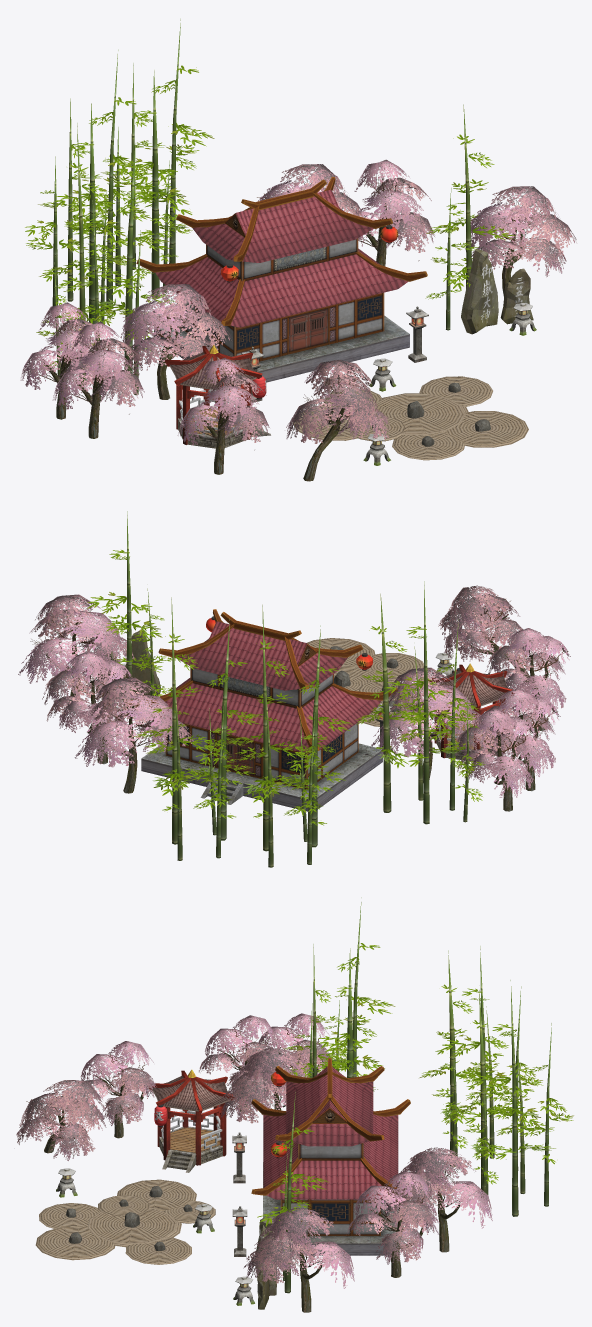
Rendered from garden_night.FBX.
3 views of the same model, one above another, from view 1: azimuth 30°, elevation 25°; view 2: azimuth 150°, elevation 25°; view 3: azimuth 270°, elevation 25° (orthographic). The views are drawn at different scales.
Parts seen in each view (by area): view 1: c_04, bambooss001, Object002, bambooss002, Object004, Object001, bambooss, Birch_1, Birch_002, c_03, Birch_003, Birch_004 (+15 smaller); view 2: c_04, bambooss, bambooss002, bambooss001, Object003, Object004, Birch_004, Object001, Birch_003, Object002, Birch_1, Birch_002 (+10 smaller); view 3: c_04, c_03, bambooss002, Object004, Birch_003, Object001, Object003, bambooss001, Birch_1, bambooss, Object002, Birch_002 (+13 smaller).
Part boxes in pixels (x1,y1,x2,y2): c_04: (136,176,427,389); bambooss001: (25,49,151,324); Object002: (121,284,231,399); bambooss002: (89,18,214,297); Object004: (465,186,576,297); Object001: (286,360,390,481); bambooss: (39,123,174,400); Birch_1: (177,358,269,474); Birch_002: (52,322,144,438); c_03: (165,345,270,448); Birch_003: (354,159,434,266); Birch_004: (20,302,109,419); c_04: (126,609,398,811); bambooss: (355,581,478,824); bambooss002: (132,597,261,860); bambooss001: (224,604,352,867); Object003: (74,677,193,793); Object004: (18,594,134,709); Birch_004: (454,708,538,811); Object001: (438,585,530,684); Birch_003: (42,651,133,764); Object002: (370,667,481,782); Birch_1: (485,628,570,730); Birch_002: (477,688,560,791); c_04: (251,1058,417,1255); c_03: (149,1069,234,1172); bambooss002: (450,980,573,1216); Object004: (243,1208,354,1312); Birch_003: (347,1171,440,1277); Object001: (16,1080,106,1160); Object003: (384,1147,492,1252); bambooss001: (419,946,543,1170); Birch_1: (80,1041,156,1138); bambooss: (283,897,395,1091); Object002: (219,1048,308,1123); Birch_002: (199,1015,276,1112).
Size of the model in its own units: 32.87 by 15.18 by 32.4.
Materials: 15 (15 with a texture image).
